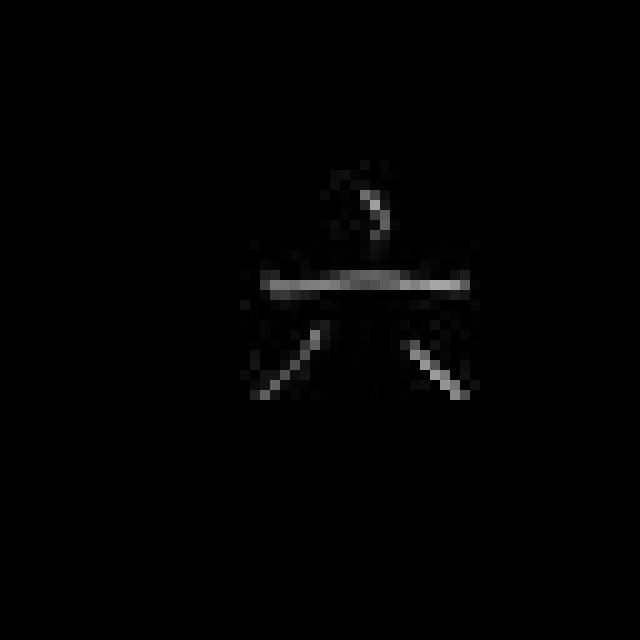6 -six-: (243, 180, 478, 420)
